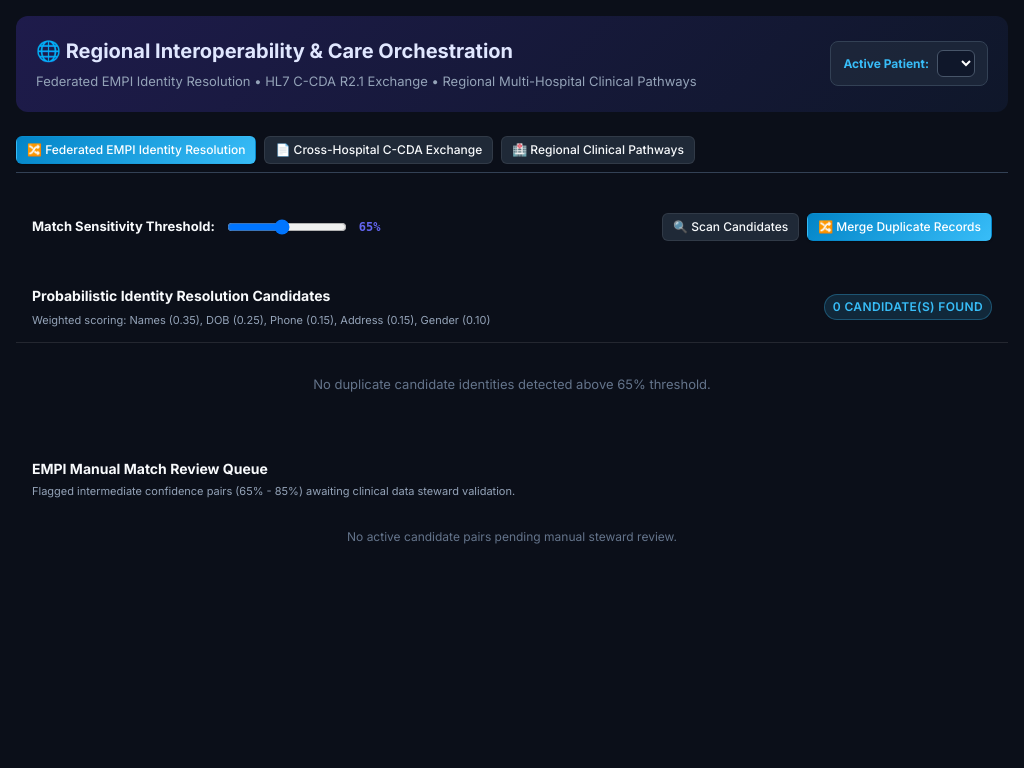
Test: RegionalInteroperabilityWorkspace › navigates to Pathways tab and renders multi-hospital stage timeline
The width and height of the screenshot is (1024, 768).
Click the button "🏥 Regional Clinical Pathways".
click(598, 150)  # box [501,136,695,164]
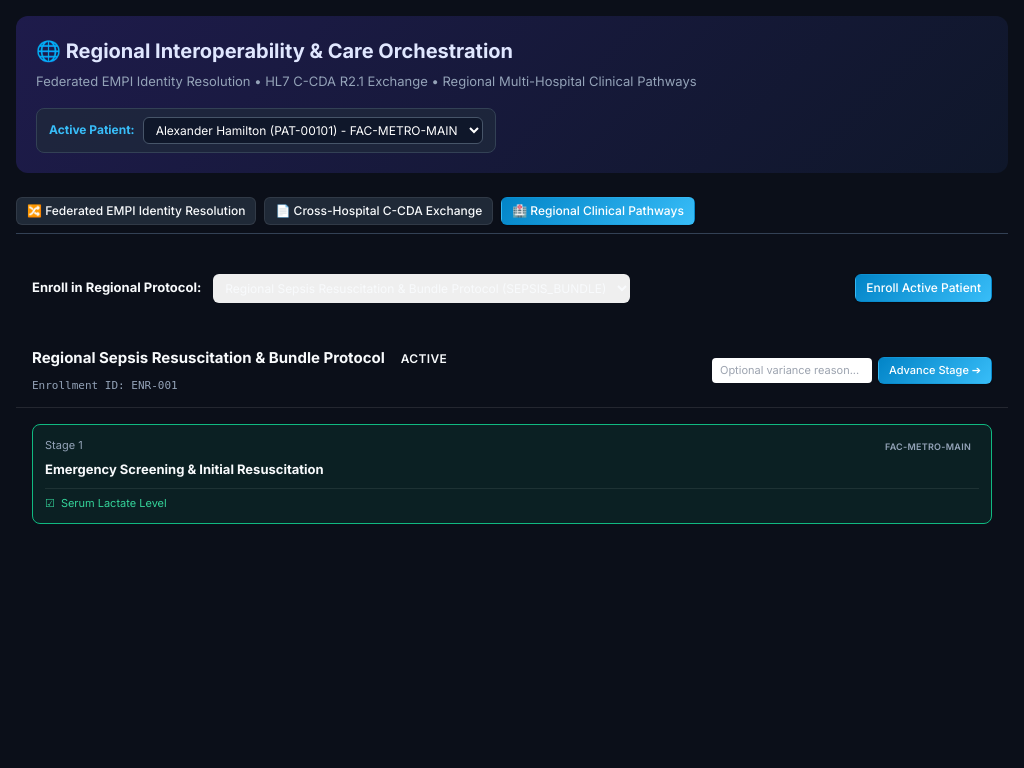
Result: the text "Emergency Screening & Initial Resuscitation" is shown at [45,461,324,477]
Result: the text "Serum Lactate Level" is shown at [61,494,167,511]
Result: the text "FAC-METRO-MAIN" is shown at [885,440,971,452]
